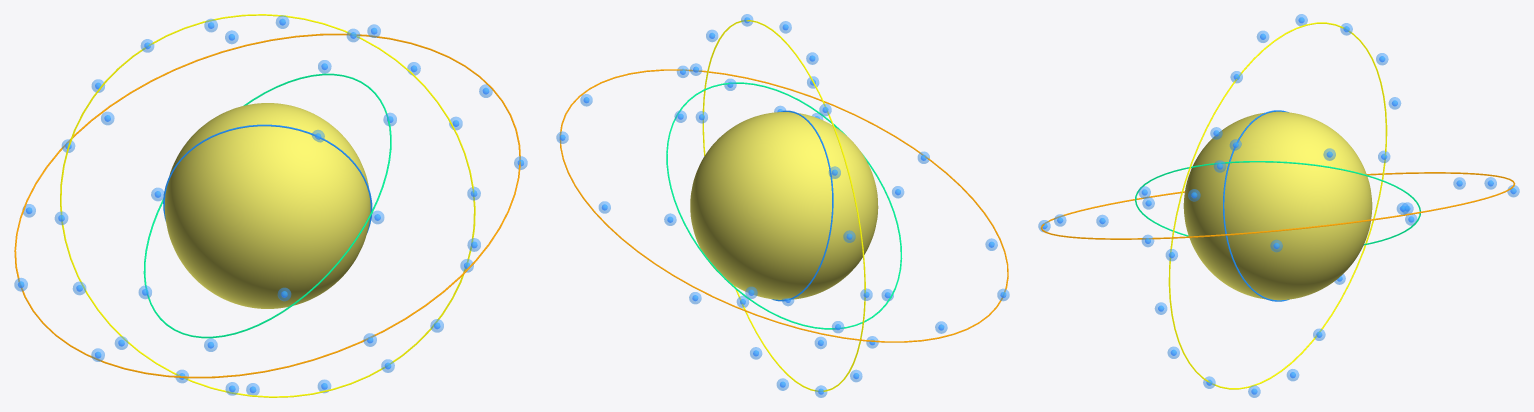
3 views of the same model, side by side, from view 1: azimuth 30°, elevation 25°; view 2: azimuth 150°, elevation 25°; view 3: azimuth 270°, elevation 25° (orthographic). The views are drawn at different scales.
Visible parts, largest first — view 1: Y, object 61, object 24, object 7, object 2; view 2: Y, object 61, object 7, object 24, object 2; view 3: Y, object 24, object 61, object 7, object 2.
Boxes of the visible parts, <box> form: Y: <box>164,103,370,308</box>; object 61: <box>14,33,520,378</box>; object 24: <box>60,14,475,397</box>; object 7: <box>143,73,391,338</box>; object 2: <box>163,124,372,234</box>; Y: <box>690,112,878,299</box>; object 61: <box>559,69,1008,342</box>; object 7: <box>666,82,902,329</box>; object 24: <box>702,20,865,391</box>; object 2: <box>771,110,833,301</box>; Y: <box>1183,111,1372,300</box>; object 24: <box>1168,22,1387,389</box>; object 61: <box>1040,172,1515,239</box>; object 7: <box>1135,161,1420,245</box>; object 2: <box>1223,110,1288,301</box>.
Size of the model in its own units: 5.85 by 4.96 by 6.08.
